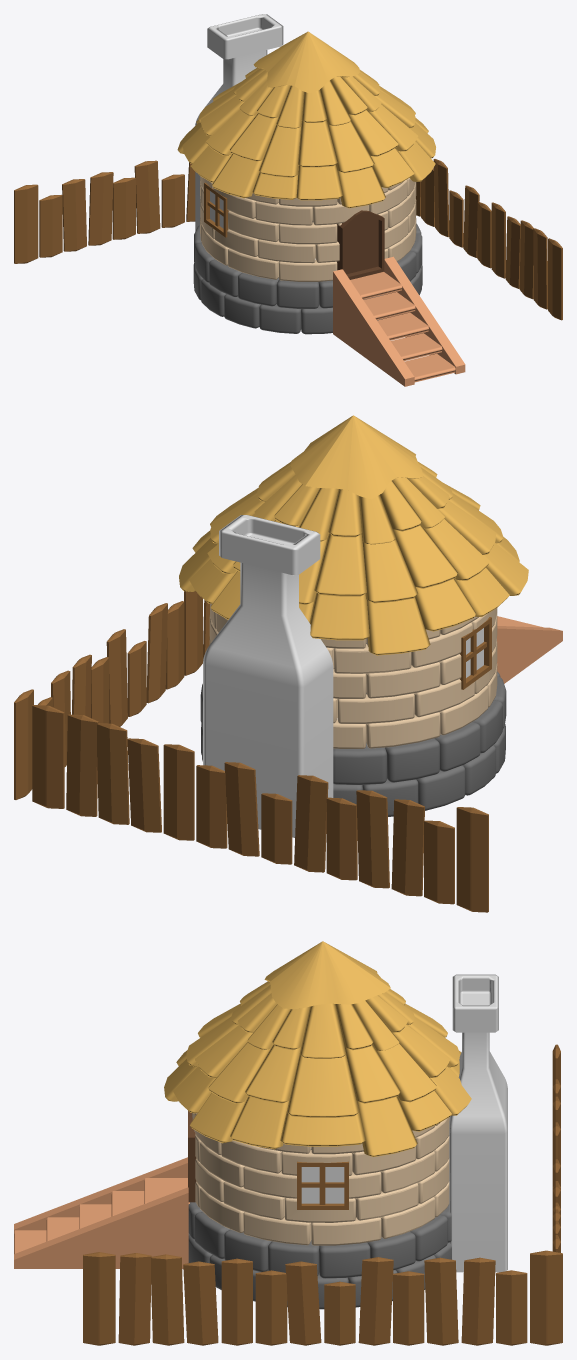
File: Casa.fbx
3 renders of one model, top to bottom at view 1: azimuth 30°, elevation 25°; view 2: azimuth 150°, elevation 25°; view 3: azimuth 270°, elevation 25°, orthographic. The views are drawn at different scales.
Visible parts, largest first — view 1: Tejado, Casa, Valla Trasera, Valla, Parte baja, Barandilla, Escaleras, Ximenea, Techo, Puerta, Ventana; view 2: Valla Trasera, Tejado, Ximenea, Casa, Valla, Parte baja, Techo, Barandilla, Ventana; view 3: Tejado, Valla, Casa, Ximenea, Parte baja, Barandilla, Techo, Escaleras, Ventana.001, Valla Trasera, Puerta.
Part boxes in pixels (left/top/right/bottom): Tejado: left=177, top=67, right=435, bottom=208; Casa: left=200, top=176, right=416, bottom=281; Valla Trasera: left=14, top=160, right=195, bottom=263; Valla: left=416, top=159, right=562, bottom=320; Parte baja: left=193, top=221, right=422, bottom=334; Barandilla: left=333, top=256, right=465, bottom=386; Escaleras: left=350, top=272, right=455, bottom=382; Ximenea: left=195, top=14, right=283, bottom=231; Techo: left=253, top=31, right=360, bottom=93; Puerta: left=337, top=210, right=384, bottom=279; Ventana: left=204, top=182, right=228, bottom=237; Valla Trasera: left=32, top=705, right=488, bottom=912; Tejado: left=179, top=461, right=528, bottom=655; Ximenea: left=203, top=515, right=333, bottom=837; Casa: left=209, top=603, right=497, bottom=748; Valla: left=14, top=591, right=209, bottom=799; Parte baja: left=200, top=643, right=506, bottom=816; Techo: left=290, top=415, right=422, bottom=499; Barandilla: left=497, top=626, right=562, bottom=683; Ventana: left=460, top=617, right=491, bottom=689; Tejado: left=164, top=981, right=471, bottom=1156; Valla: left=83, top=1250, right=562, bottom=1345; Casa: left=192, top=1113, right=449, bottom=1245; Ximenea: left=449, top=974, right=507, bottom=1272; Parte baja: left=188, top=1148, right=451, bottom=1309; Barandilla: left=14, top=1157, right=188, bottom=1268; Techo: left=264, top=941, right=390, bottom=1009; Escaleras: left=14, top=1178, right=189, bottom=1253; Ventana.001: left=297, top=1161, right=348, bottom=1209; Valla Trasera: left=552, top=1044, right=560, bottom=1252; Puerta: left=188, top=1111, right=196, bottom=1202.
Size of the model in its own units: 201 by 139 by 221.
